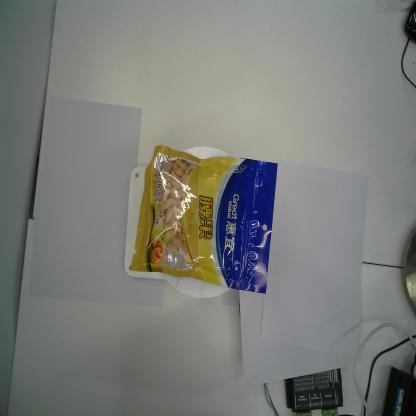Dried Fruit: (130, 145, 279, 293)
